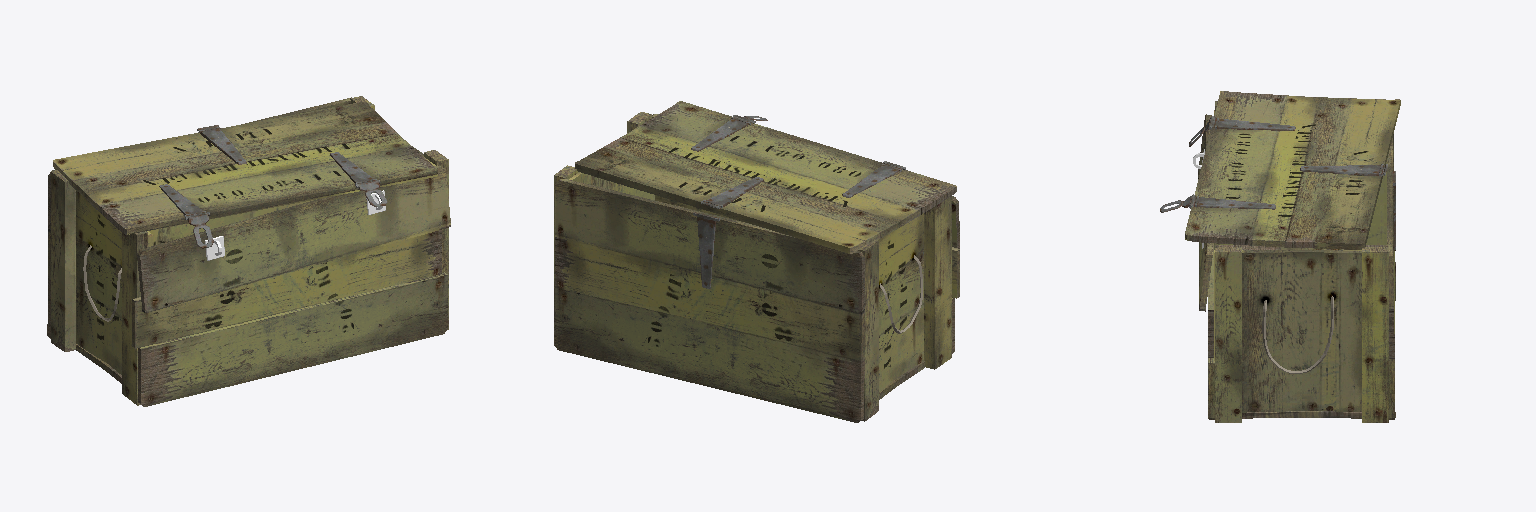
3 views of the same model, side by side, from view 1: azimuth 30°, elevation 25°; view 2: azimuth 150°, elevation 25°; view 3: azimuth 270°, elevation 25° (orthographic).
Visible parts, largest first — view 1: WoodCrate01Dest_1, Top_1, Board01_1, Board02_1, Top_0, WoodCrate01Dest_0, Board01_0; view 2: WoodCrate01Dest_1, Top_1, Top_0, WoodCrate01Dest_0, Board02_1; view 3: WoodCrate01Dest_1, Top_1, Top_0, Board01_1, Board02_1.
Part boxes in pixels (x1,y1,x2,y2): WoodCrate01Dest_1: (47, 96, 448, 406); Top_1: (53, 102, 437, 234); Board01_1: (137, 165, 450, 312); Board02_1: (132, 230, 441, 348); Top_0: (159, 125, 387, 248); WoodCrate01Dest_0: (140, 132, 447, 348); Board01_0: (205, 190, 385, 260); WoodCrate01Dest_1: (554, 112, 954, 422); Top_1: (575, 101, 956, 253); Top_0: (691, 115, 905, 208); WoodCrate01Dest_0: (693, 212, 952, 298); Board02_1: (655, 195, 959, 298); WoodCrate01Dest_1: (1208, 101, 1395, 422); Top_1: (1185, 91, 1400, 249); Top_0: (1160, 116, 1387, 212); Board01_1: (1198, 114, 1213, 311); Board02_1: (1208, 243, 1214, 357).
Bounding box in the file's own units: 69.34 × 37.1 × 45.31.
7 materials, 1 textured.